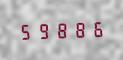eight: (69, 19, 85, 39), (52, 20, 68, 39)
five: (18, 21, 34, 40)
nine: (35, 20, 51, 40)
six: (86, 19, 102, 38)
